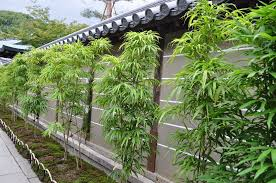bamboo: (191, 7, 273, 183), (99, 27, 163, 183), (55, 37, 108, 171), (5, 48, 49, 127)
